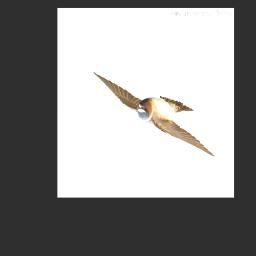Swallow: (92, 72, 217, 161)
